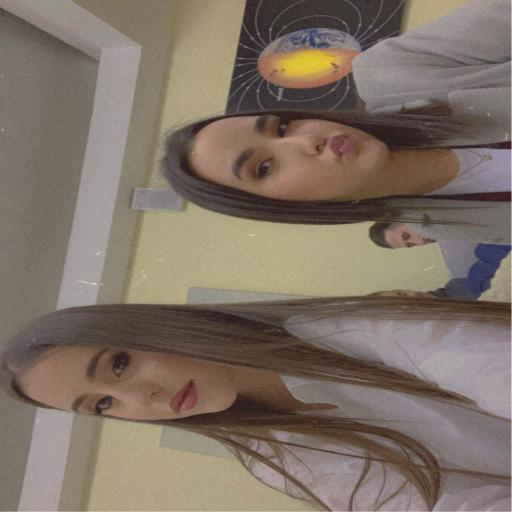masa: (8, 336, 253, 428)
